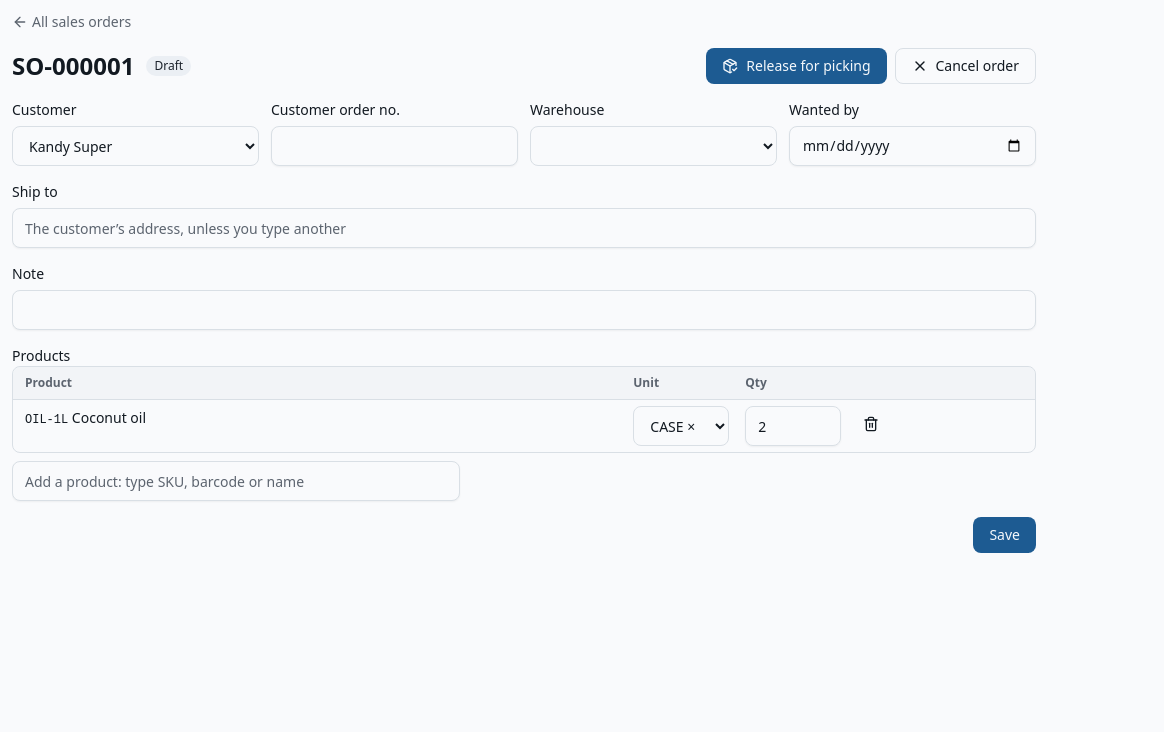
Test case: releases a draft, lists the reserved stock, and names what is short when it cannot
This screenshot has width=1164, height=732.
Step 1. Click the button "Release for picking" → x=796, y=66, box 706,48 -> 886,84
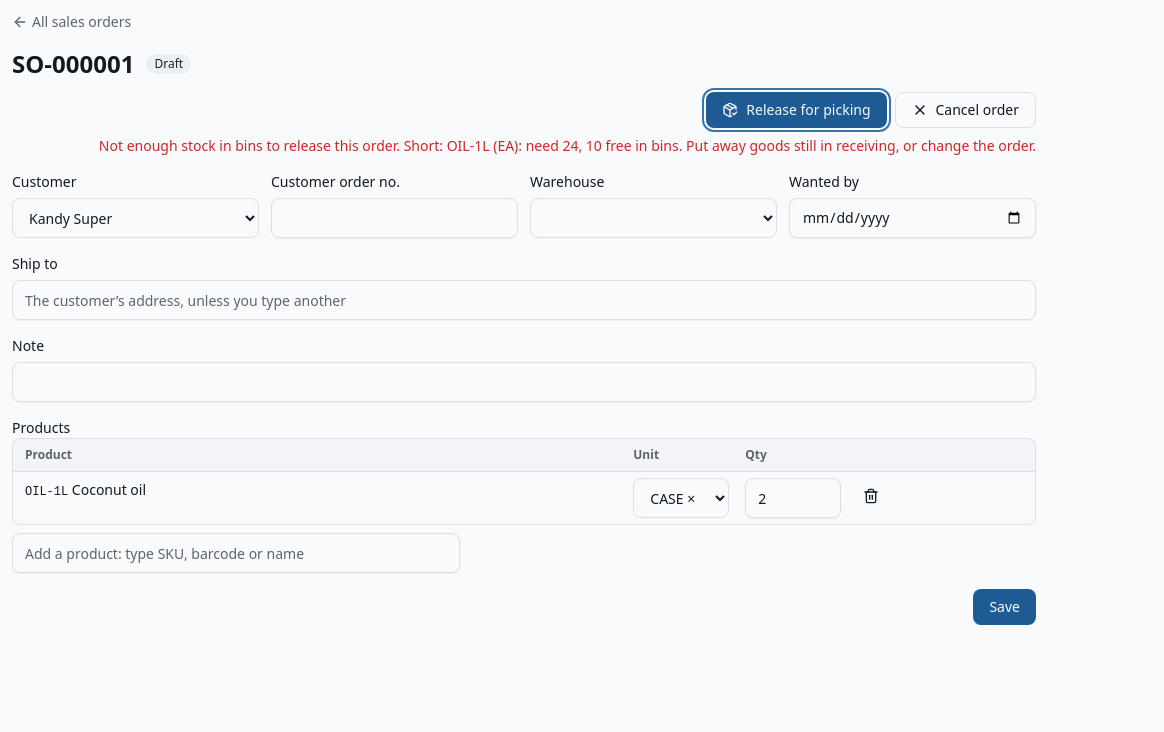
Expected: the text "Short: OIL-1L (EA): need 24, 10 free in bins" is shown, 99,136 -> 1036,155
Step 2. Click the button "Release for picking" → x=796, y=110, box 706,92 -> 886,128
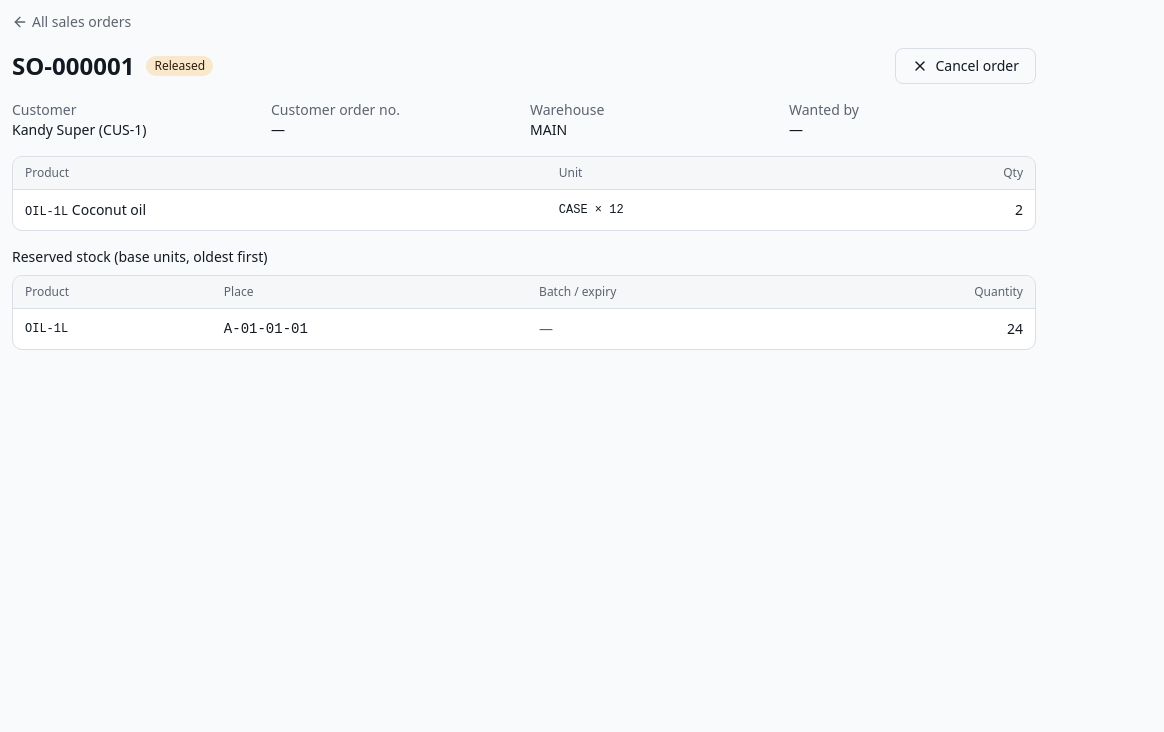
Expected: the text "Released" is shown, 146,56 -> 213,76
Expected: the text "A-01-01-01" is shown, 212,308 -> 527,349
Expected: the button "Release for picking" is gone
